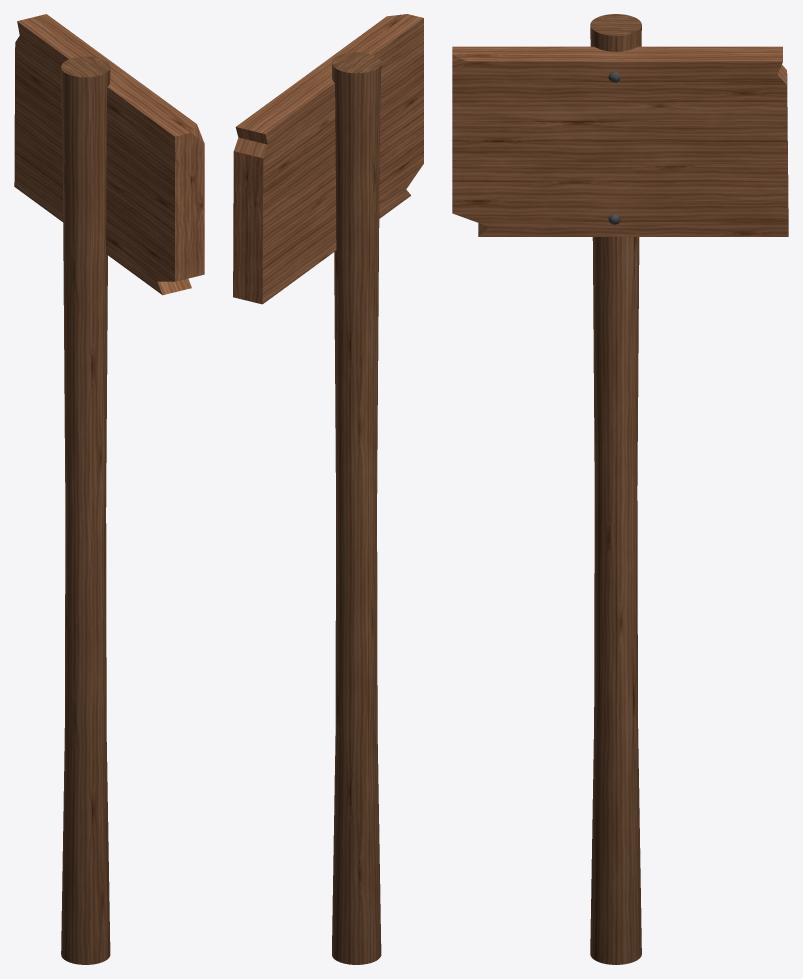
Rendered from Pointer1.glb.
The picture shows the model from 3 angles, left to right: view 1: azimuth 30°, elevation 25°; view 2: azimuth 150°, elevation 25°; view 3: azimuth 270°, elevation 25°; orthographic projection. The views are drawn at different scales.
Visible parts, largest first — view 1: Pointer1; view 2: Pointer1; view 3: Pointer1.
Part boxes in pixels (left/top/right/bottom): Pointer1: left=14, top=14, right=204, bottom=964; Pointer1: left=233, top=14, right=423, bottom=964; Pointer1: left=452, top=14, right=788, bottom=964.
Bounding box in the file's own units: 0.4676 × 6.1 × 2.
Materials: 2 (2 with a texture image).
